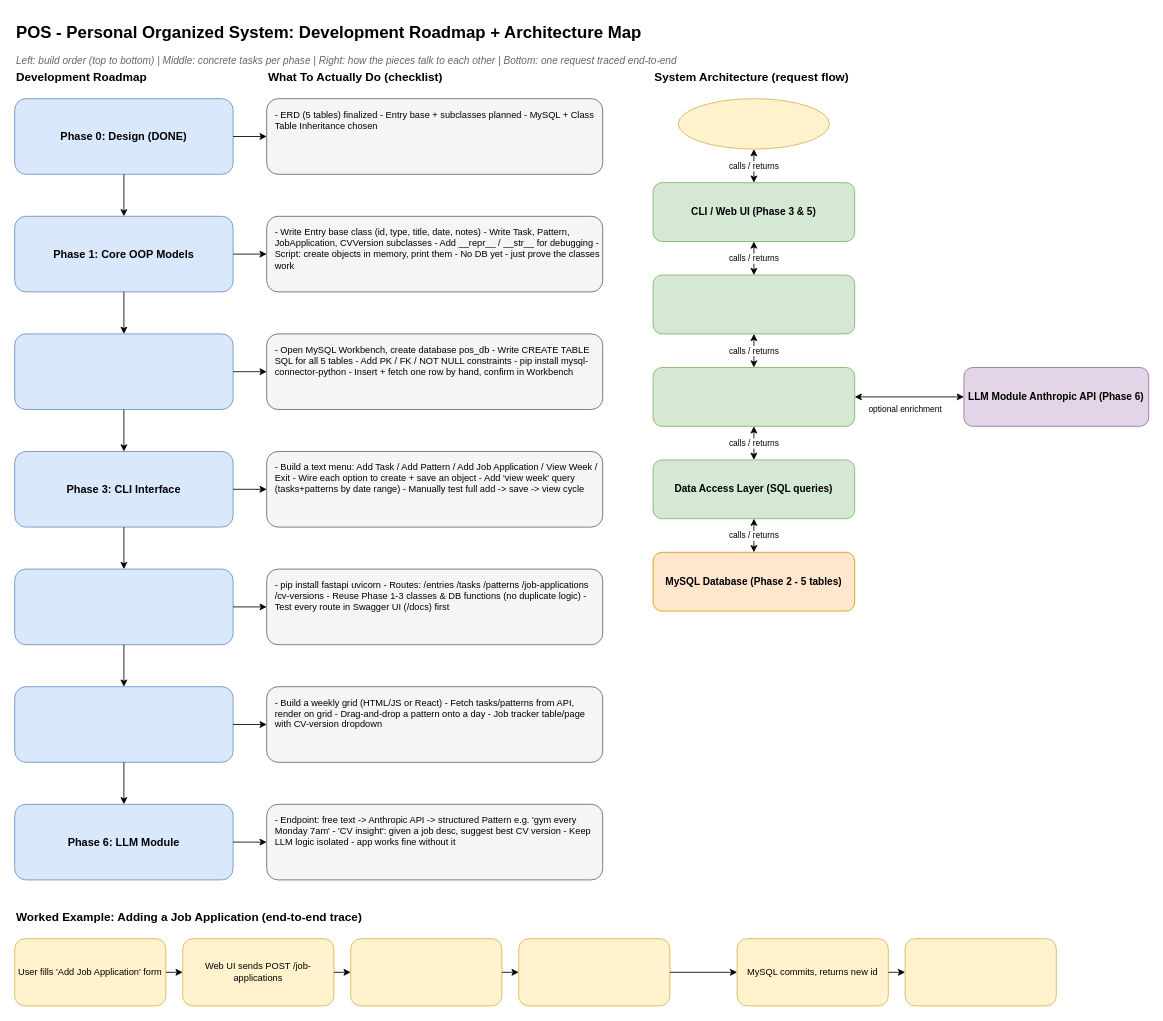
The diagram is 1163 pixels wide and 1021 high, and some of its shapes have lost their labels. Here are the shapes that lost their labels. From the top down, the centre of each, then its label:
At (x=753, y=123): "User".
At (x=753, y=304): "REST API - FastAPI (Phase 4)".
At (x=123, y=371): "Phase 2: MySQL Database".
At (x=753, y=396): "Business Logic OOP classes (Phase 1)".
At (x=123, y=606): "Phase 4: REST API (FastAPI)".
At (x=123, y=724): "Phase 5: Web UI".
At (x=426, y=972): "API validates data, creates JobApplication object".
At (x=594, y=972): "JobApplication.save() writes to entries + job_applications tables".
At (x=980, y=972): "API responds 201, UI shows new card".
